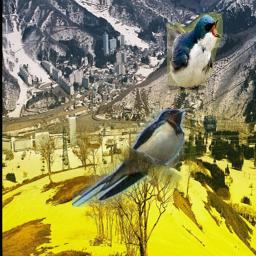Swallow: (72, 109, 185, 207), (167, 12, 223, 93)
